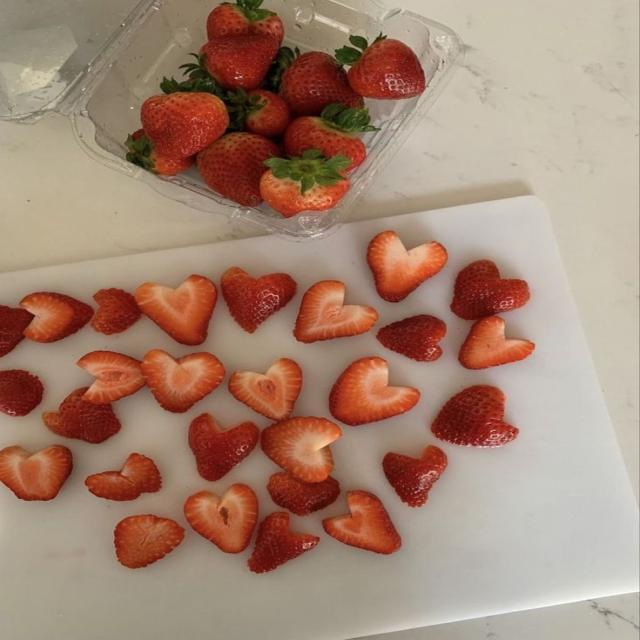strawberry: (284, 102, 377, 170), (334, 32, 426, 100), (197, 132, 280, 206), (259, 149, 348, 217), (141, 92, 228, 157), (279, 51, 363, 117), (199, 33, 279, 90), (207, 0, 283, 47), (125, 129, 194, 175), (226, 89, 290, 138)
strawberry sliced: (331, 357, 420, 425), (367, 230, 447, 302), (134, 275, 217, 344), (431, 385, 518, 447), (261, 416, 341, 483), (141, 349, 225, 412), (294, 280, 378, 342), (185, 483, 258, 553), (322, 490, 401, 554), (221, 266, 295, 332), (189, 413, 259, 480), (450, 260, 529, 319), (229, 358, 302, 421), (247, 511, 319, 573), (43, 388, 120, 443), (459, 316, 535, 369), (383, 445, 447, 507), (0, 445, 71, 499), (114, 514, 184, 568), (77, 351, 145, 405), (19, 292, 92, 342), (84, 453, 161, 500), (376, 314, 446, 361), (267, 472, 339, 516), (91, 288, 140, 334), (0, 370, 43, 416), (0, 305, 34, 357)
